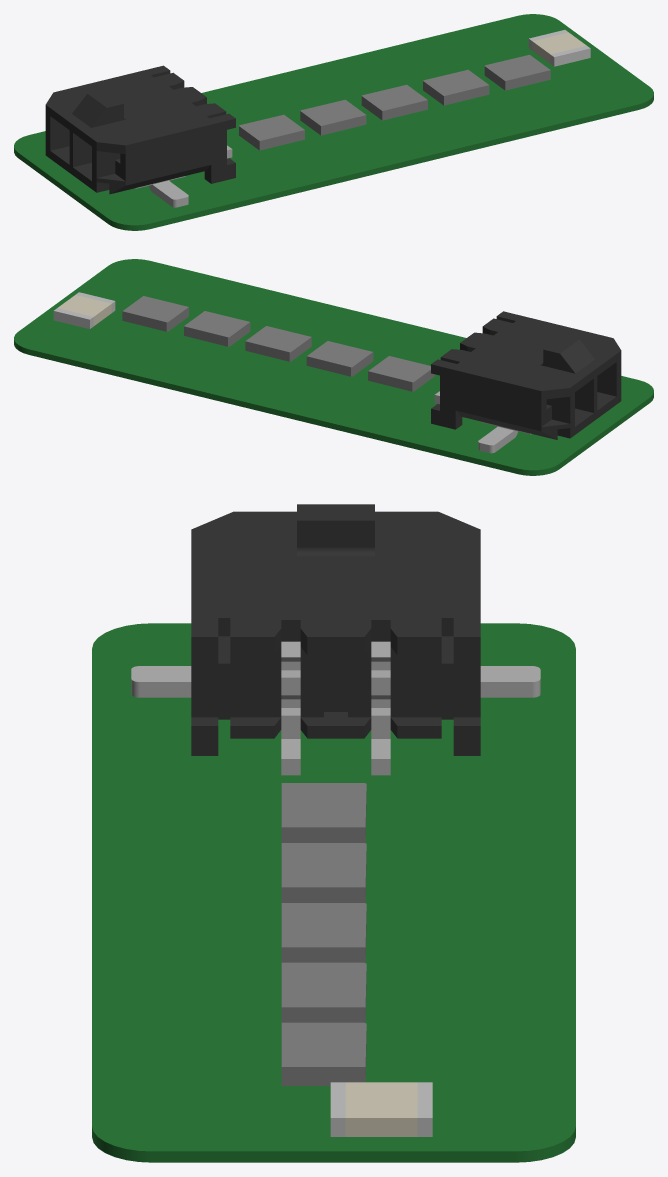
The model's file is CENTBRAKE.glb.
3 renders of one model, top to bottom at view 1: azimuth 30°, elevation 25°; view 2: azimuth 150°, elevation 25°; view 3: azimuth 270°, elevation 25°, orthographic. The views are drawn at different scales.
Visible parts, largest first — view 1: Open CASCADE STEP translator 7.5 1.1.1, P1, Extruded005, Extruded004, Extruded006, Extruded003, Extruded007, Extruded, 6621xx145021_MASSE, Extruded001; view 2: Open CASCADE STEP translator 7.5 1.1.1, P1, Extruded006, Extruded004, Extruded003, Extruded005, Extruded007, Extruded, 6621xx145021_MASSE001, Extruded002; view 3: Open CASCADE STEP translator 7.5 1.1.1, P1, Extruded003, Extruded004, Extruded005, Extruded006, Extruded007, Extruded, 6621xx145021_PIN, 6621xx145021_PIN001, 6621xx145021_MASSE, 6621xx145021_MASSE001.
Boxes of the visible parts, bbox=[...] form: Open CASCADE STEP translator 7.5 1.1.1: bbox=[14, 14, 653, 230]; P1: bbox=[45, 65, 235, 194]; Extruded005: bbox=[361, 84, 427, 120]; Extruded004: bbox=[423, 69, 489, 105]; Extruded006: bbox=[300, 99, 366, 135]; Extruded003: bbox=[484, 54, 550, 90]; Extruded007: bbox=[239, 114, 304, 150]; Extruded: bbox=[532, 32, 586, 63]; 6621xx145021_MASSE: bbox=[135, 176, 188, 207]; Extruded001: bbox=[550, 45, 590, 66]; Open CASCADE STEP translator 7.5 1.1.1: bbox=[14, 259, 653, 475]; P1: bbox=[431, 311, 621, 439]; Extruded006: bbox=[306, 341, 373, 376]; Extruded004: bbox=[184, 311, 250, 346]; Extruded003: bbox=[122, 296, 188, 331]; Extruded005: bbox=[245, 326, 311, 361]; Extruded007: bbox=[368, 356, 434, 391]; Extruded: bbox=[58, 295, 111, 325]; 6621xx145021_MASSE001: bbox=[478, 421, 530, 453]; Extruded002: bbox=[53, 308, 93, 328]; Open CASCADE STEP translator 7.5 1.1.1: bbox=[92, 623, 575, 1162]; P1: bbox=[191, 504, 480, 755]; Extruded003: bbox=[281, 1022, 366, 1085]; Extruded004: bbox=[281, 962, 366, 1022]; Extruded005: bbox=[281, 903, 366, 962]; Extruded006: bbox=[281, 843, 366, 902]; Extruded007: bbox=[281, 783, 366, 842]; Extruded: bbox=[345, 1082, 417, 1136]; 6621xx145021_PIN: bbox=[371, 641, 390, 775]; 6621xx145021_PIN001: bbox=[281, 641, 300, 775]; 6621xx145021_MASSE: bbox=[131, 666, 191, 697]; 6621xx145021_MASSE001: bbox=[480, 666, 540, 697].
Bounding box in the file's own units: 0.0417 × 0.00602 × 0.0161.
